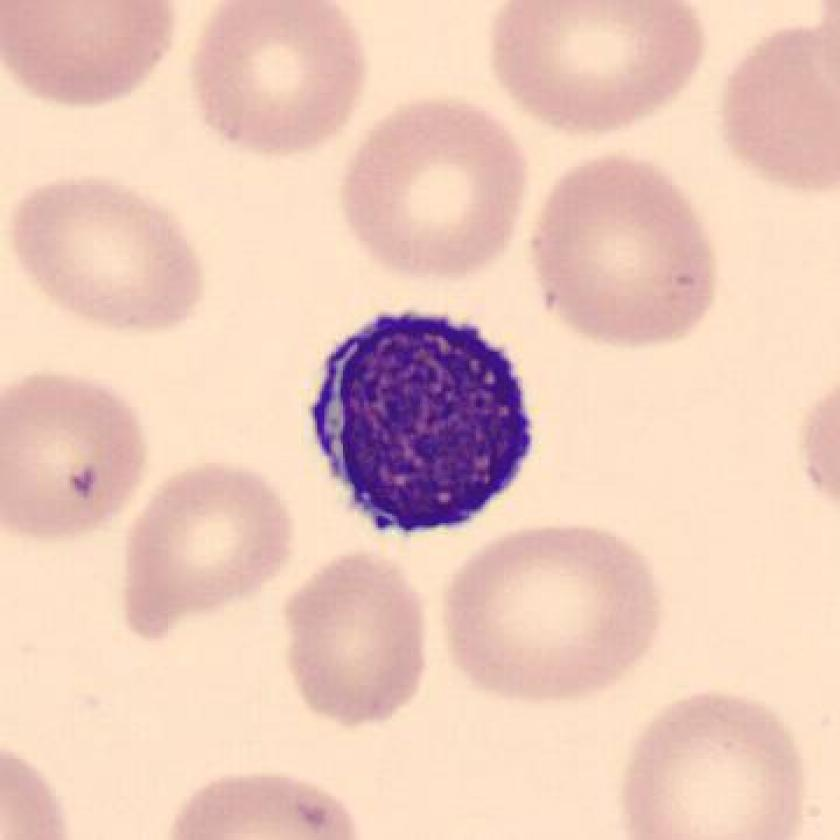lymphocyte: (286, 300, 556, 557)
